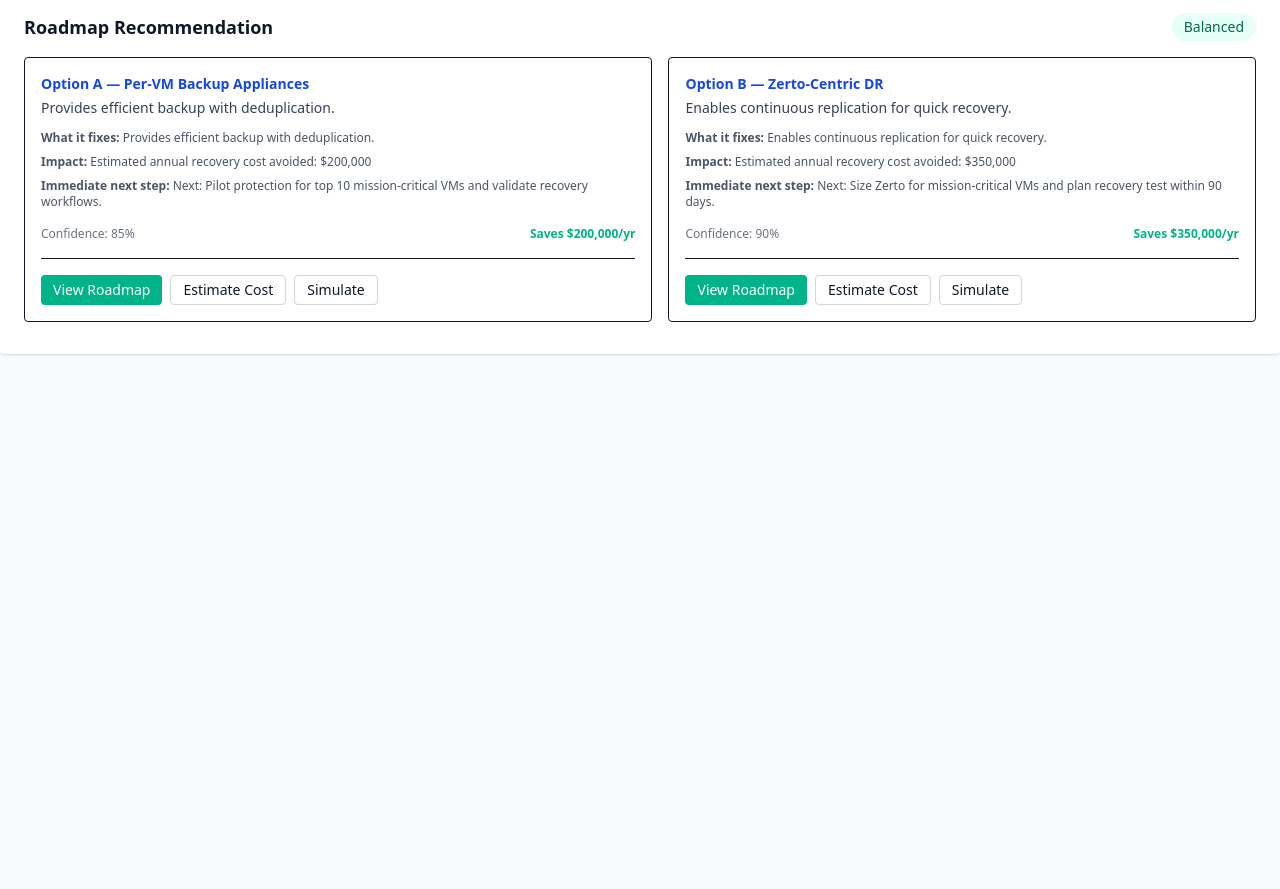
AdvisorHub Content Rendering › displays roadmap action items as bullet points
The image size is (1280, 889).
Click the button with aria-label "View roadmap for".
click(102, 290)  # box [41,275,162,305]
(page scrolled)
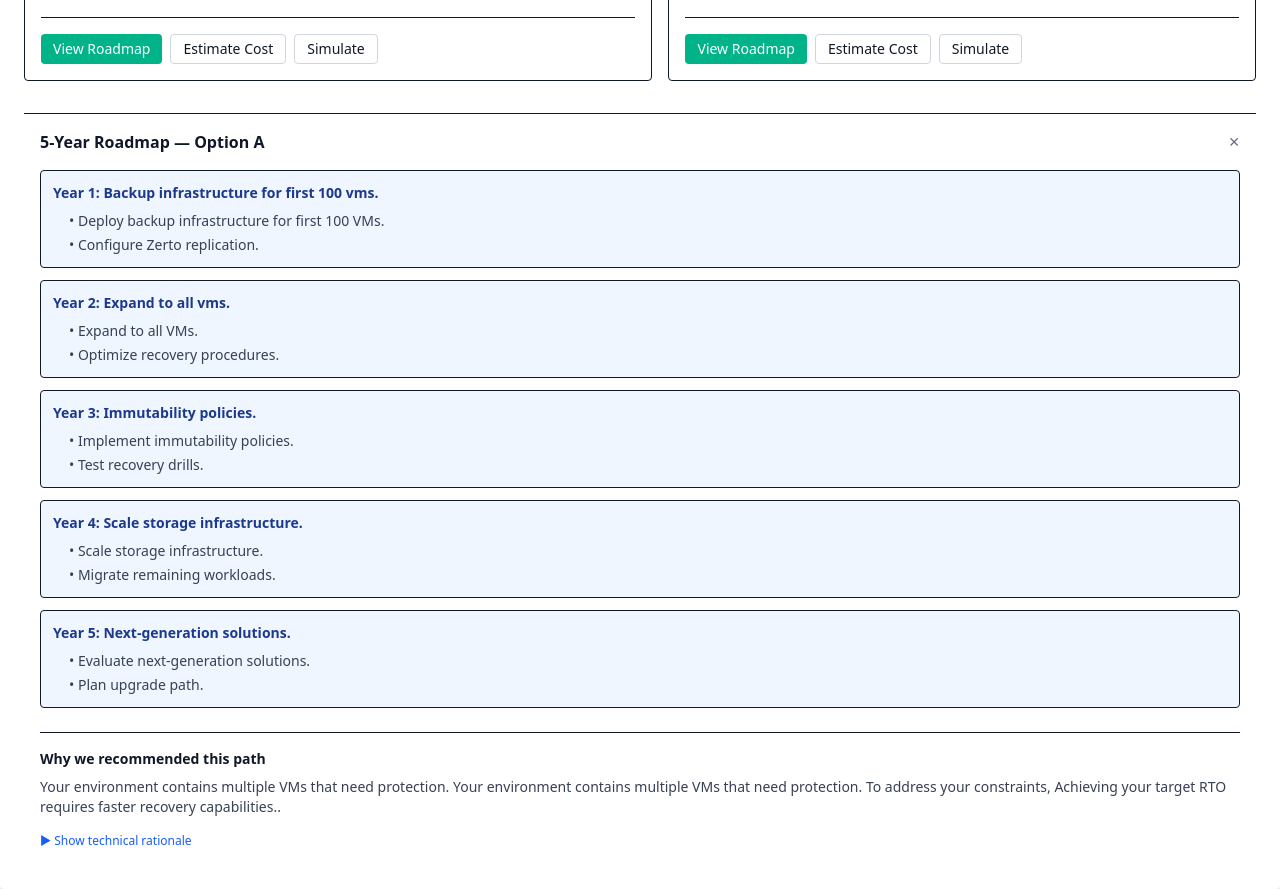
Now the element named "Roadmap timeline" shows "•", box [69,211,78,230]
